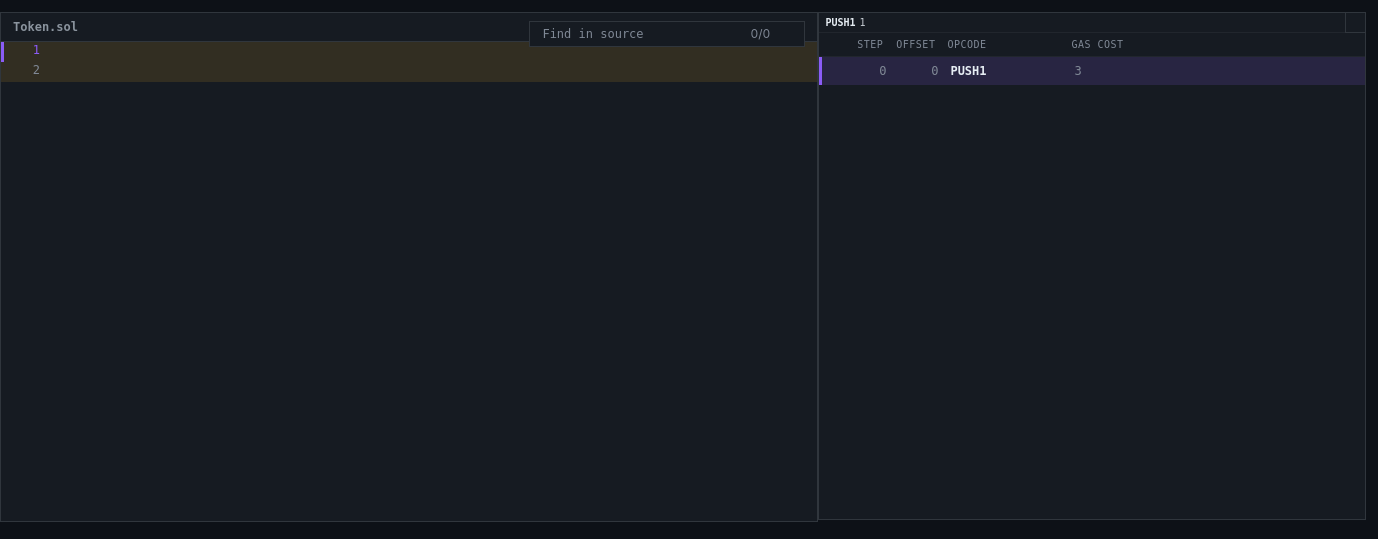
Test: SourceOpcodeSplit › collapses and restores the opcode pane (persisted in localStorage)
expect the text "Opcode" is shown: met, box [947, 39, 986, 50]
Click the 2nd button at coordinates (1355, 22), box [1345, 13, 1365, 32]
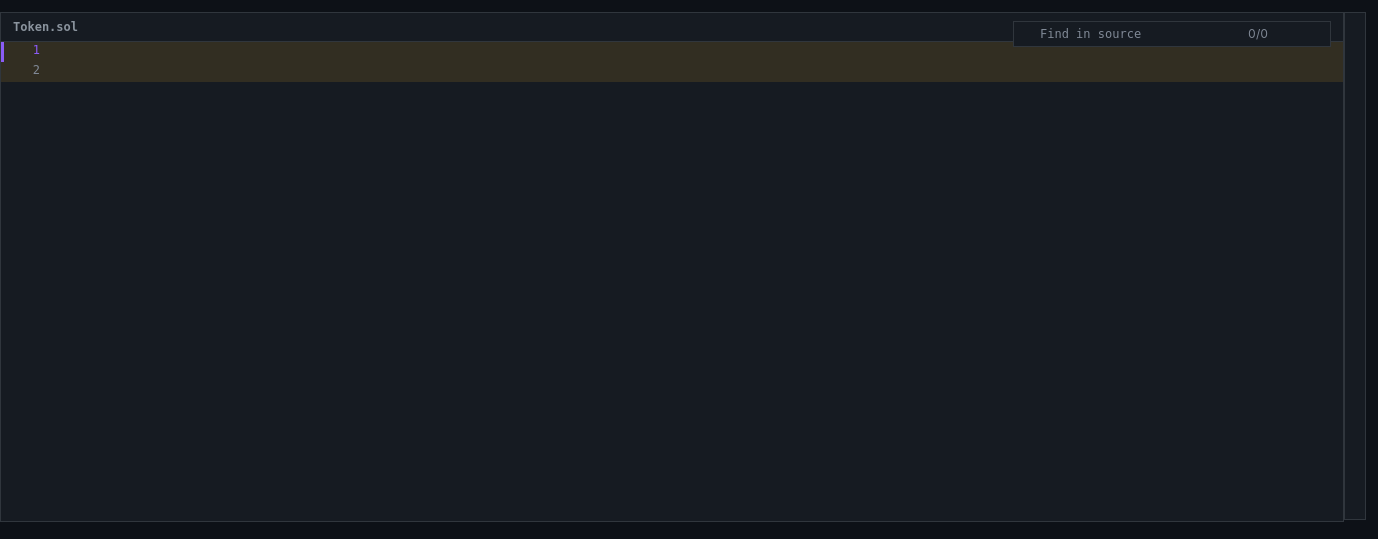
expect the text "Opcode" is gone: met
